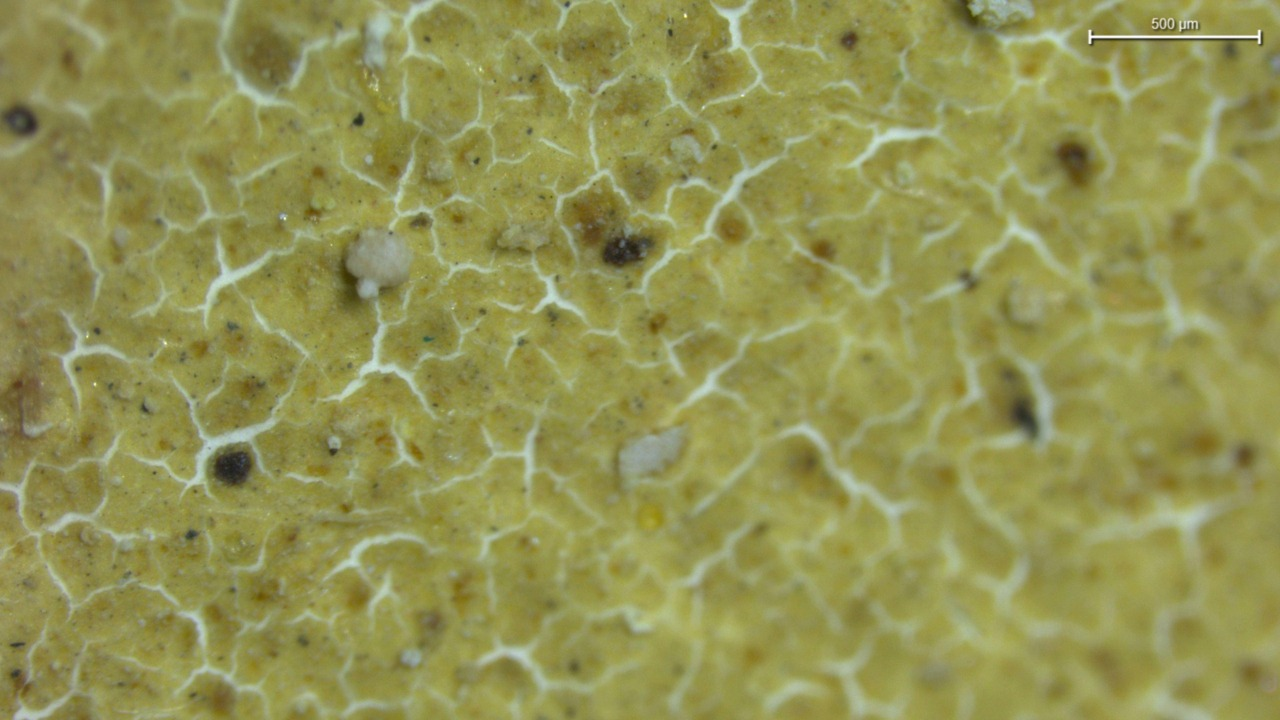microplastic_fragment: (344, 229, 413, 300), (497, 217, 556, 252)
